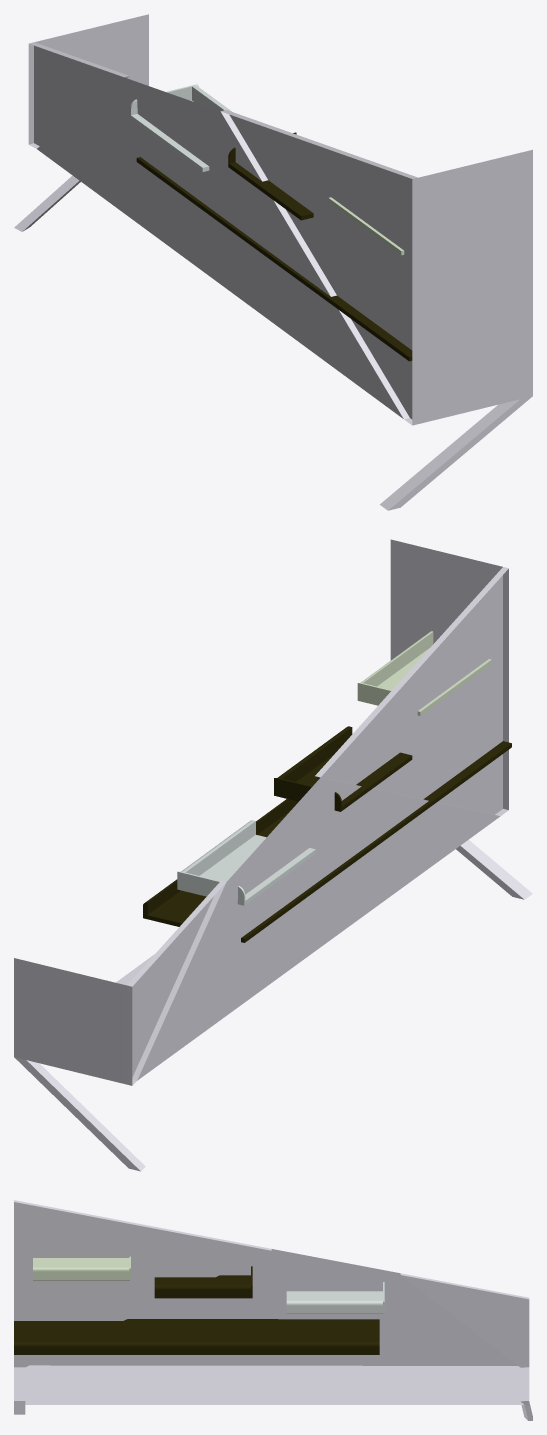
The model's file is cabinet2_Nov20.glb.
3 views of the same model, one above another, from view 1: azimuth 30°, elevation 25°; view 2: azimuth 150°, elevation 25°; view 3: azimuth 270°, elevation 25° (orthographic). The views are drawn at different scales.
Visible parts, largest first — view 1: cabinet; view 2: cabinet; view 3: cabinet.
Boxes of the visible parts, x1,y1,x2,y2 form: cabinet: (14,14,532,510); cabinet: (14,539,532,1171); cabinet: (14,1200,532,1420).
Bounding box in the file's own units: 0.4615 × 1 × 2.13.
